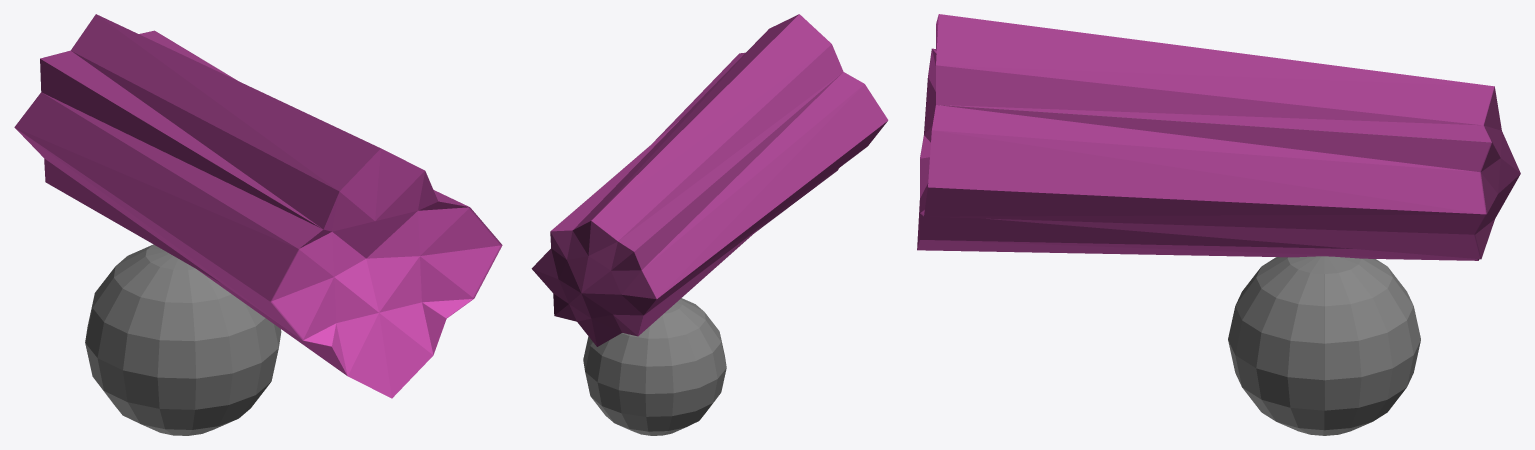
Rendered from chargeEnemy.obj.
The picture shows the model from 3 angles, left to right: view 1: azimuth 30°, elevation 25°; view 2: azimuth 150°, elevation 25°; view 3: azimuth 270°, elevation 25°; orthographic projection. The views are drawn at different scales.
Parts seen in each view (by area): view 1: 立方体; view 2: 立方体; view 3: 立方体.
Part boxes in pixels (left/top/right/bottom): 立方体: left=14, top=14, right=502, bottom=435; 立方体: left=531, top=14, right=888, bottom=435; 立方体: left=917, top=14, right=1520, bottom=435.
Size of the model in its own units: 1.44 by 2.51 by 3.33.
1 material, 1 textured.
